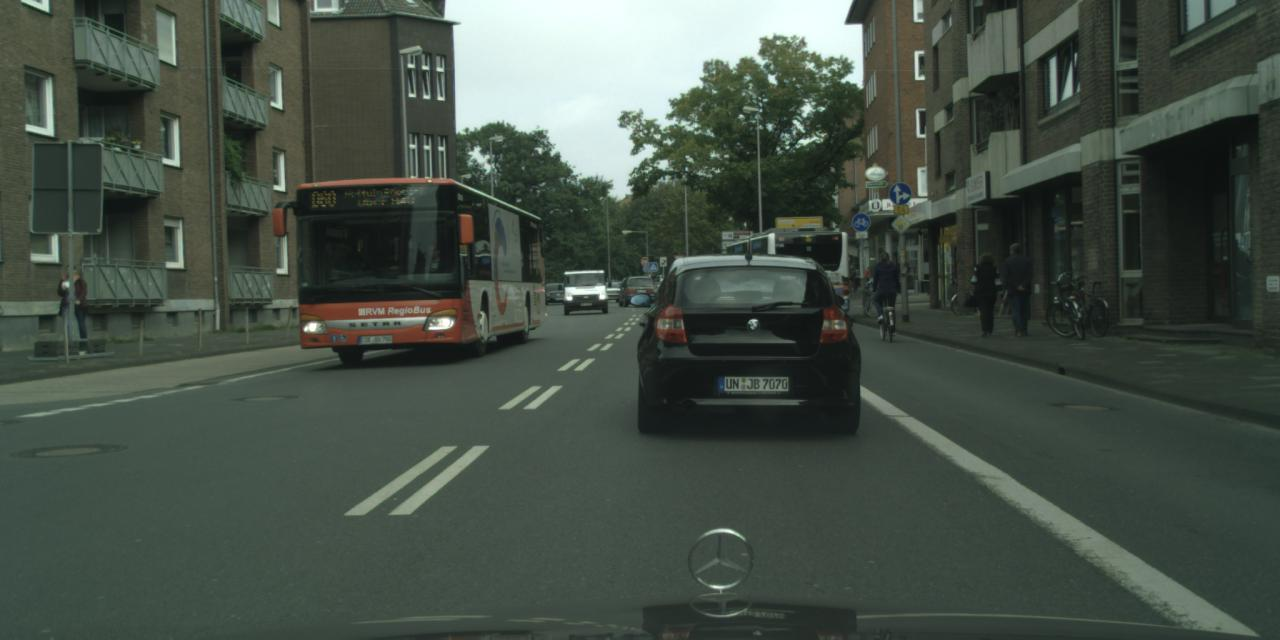ped: (999, 242, 1037, 336), (969, 252, 1004, 336), (56, 264, 88, 346), (870, 250, 901, 328), (864, 266, 872, 288)
